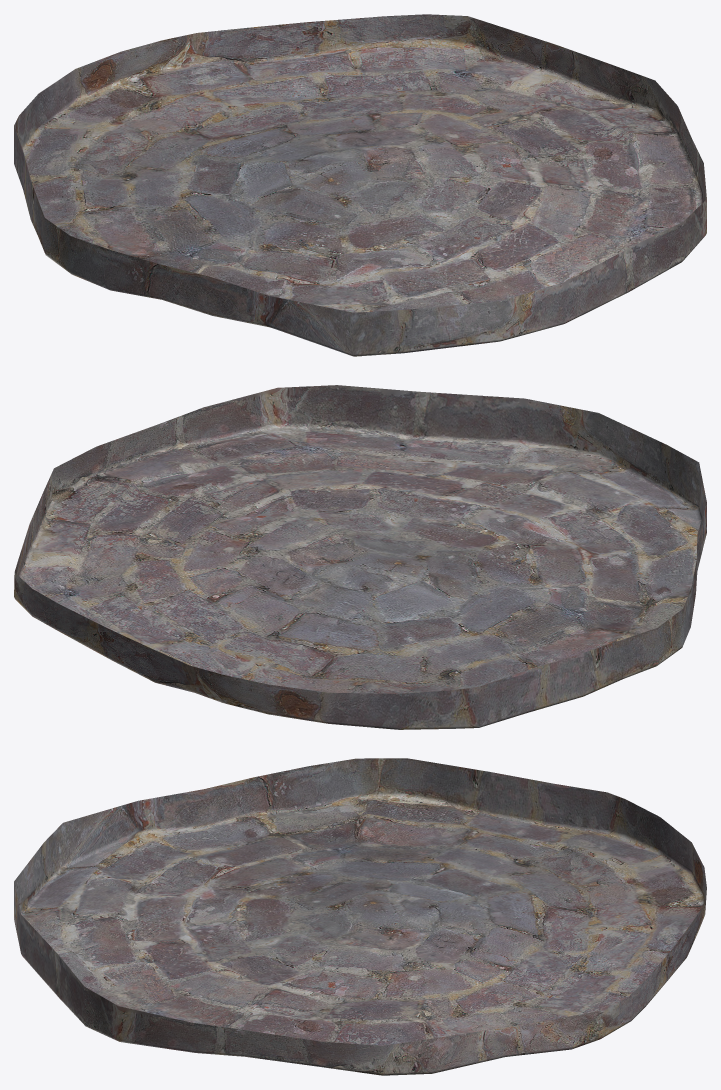
Rendered from sm_CryptCeiling_02_05.fbx.
3 renders of one model, top to bottom at view 1: azimuth 30°, elevation 25°; view 2: azimuth 150°, elevation 25°; view 3: azimuth 270°, elevation 25°, orthographic. The views are drawn at different scales.
Parts seen in each view (by area): view 1: sm_CryptCeiling_02_05_LOD0; view 2: sm_CryptCeiling_02_05_LOD0; view 3: sm_CryptCeiling_02_05_LOD0.
Boxes of the visible parts, x1,y1,x2,y2 form: sm_CryptCeiling_02_05_LOD0: [14, 14, 706, 356]; sm_CryptCeiling_02_05_LOD0: [14, 385, 706, 729]; sm_CryptCeiling_02_05_LOD0: [14, 758, 706, 1075].
Bounding box in the file's own units: 135 × 138 × 9.85.
